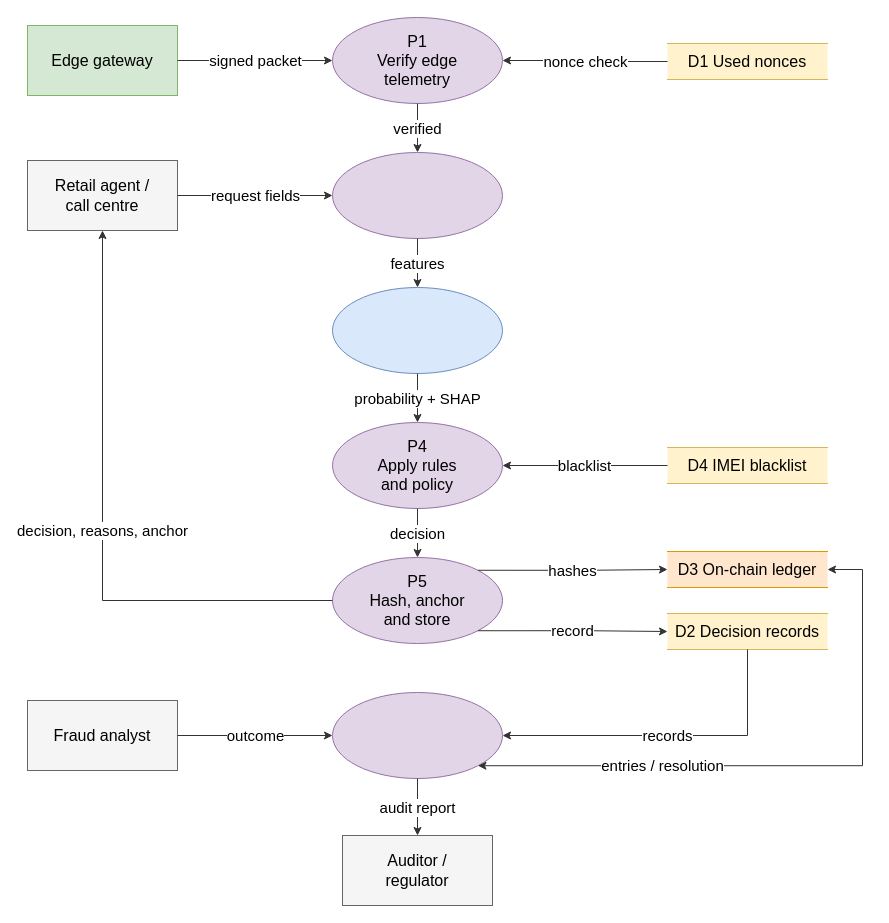
This 889x923 diagram has some shape labels left out. Each missing label, with the box of its shape:
P2 Build feature vector: (332, 152, 502, 238)
P3 Score + explain XGBoost, SHAP: (332, 286, 502, 374)
P6 Resolve review and audit: (332, 692, 502, 778)
